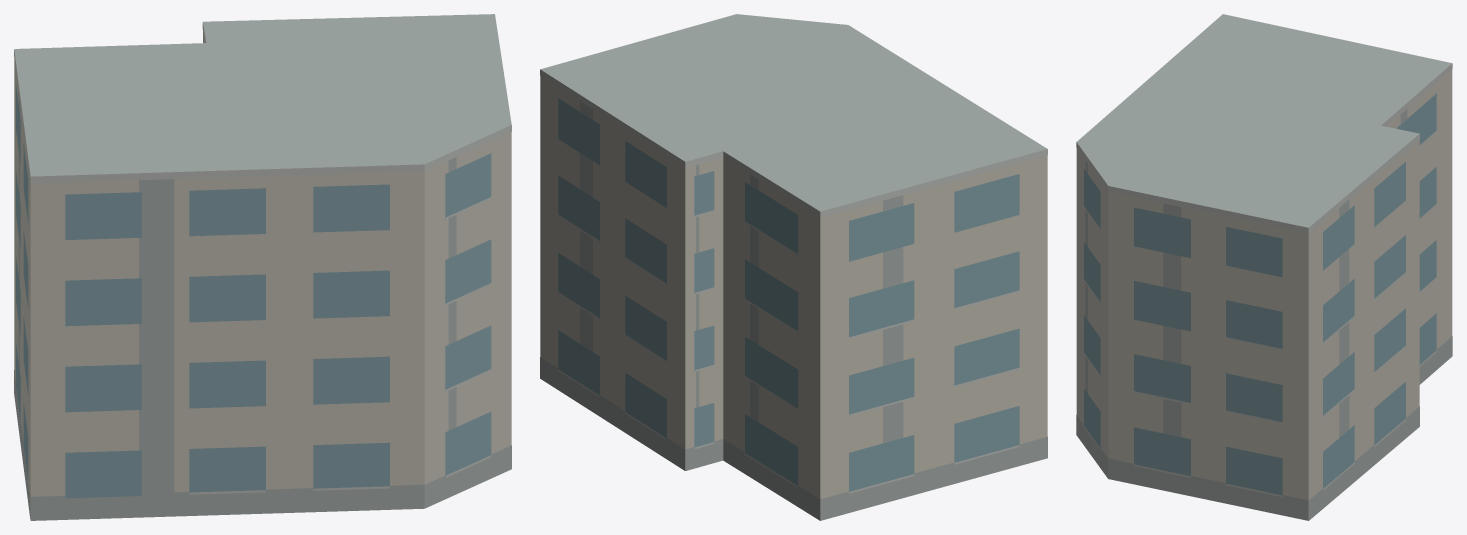
File: residential-10af8f25-2790-467e-a085-58afa6b0125d.glb
3 renders of one model, left to right at view 1: azimuth 30°, elevation 25°; view 2: azimuth 150°, elevation 25°; view 3: azimuth 270°, elevation 25°, orthographic. The views are drawn at different scales.
Visible parts, largest first — view 1: residential-10af8f25-2790-467e-a085-58afa6b0125d.tmp; view 2: residential-10af8f25-2790-467e-a085-58afa6b0125d.tmp; view 3: residential-10af8f25-2790-467e-a085-58afa6b0125d.tmp.
Boxes of the visible parts, x1,y1,x2,y2 form: residential-10af8f25-2790-467e-a085-58afa6b0125d.tmp: (14, 14, 511, 520); residential-10af8f25-2790-467e-a085-58afa6b0125d.tmp: (540, 14, 1047, 520); residential-10af8f25-2790-467e-a085-58afa6b0125d.tmp: (1076, 14, 1452, 520).
Bounding box in the file's own units: 18.78 × 12 × 13.96.
